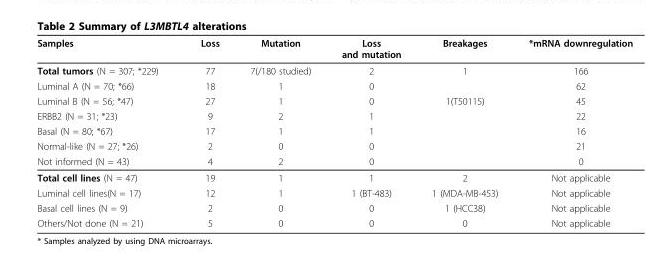table: (36, 36, 632, 228)
table column: (36, 36, 178, 228), (512, 36, 632, 228), (415, 36, 512, 228), (234, 36, 325, 228), (325, 36, 415, 228), (178, 36, 234, 228)
table column header: (36, 36, 632, 62)
table row: (36, 36, 632, 62), (36, 62, 632, 78), (36, 153, 632, 169), (36, 169, 632, 185), (36, 78, 632, 93), (36, 93, 632, 108), (36, 108, 632, 123), (36, 123, 632, 138), (36, 138, 632, 153), (36, 185, 632, 200), (36, 200, 632, 215), (36, 215, 632, 228)
